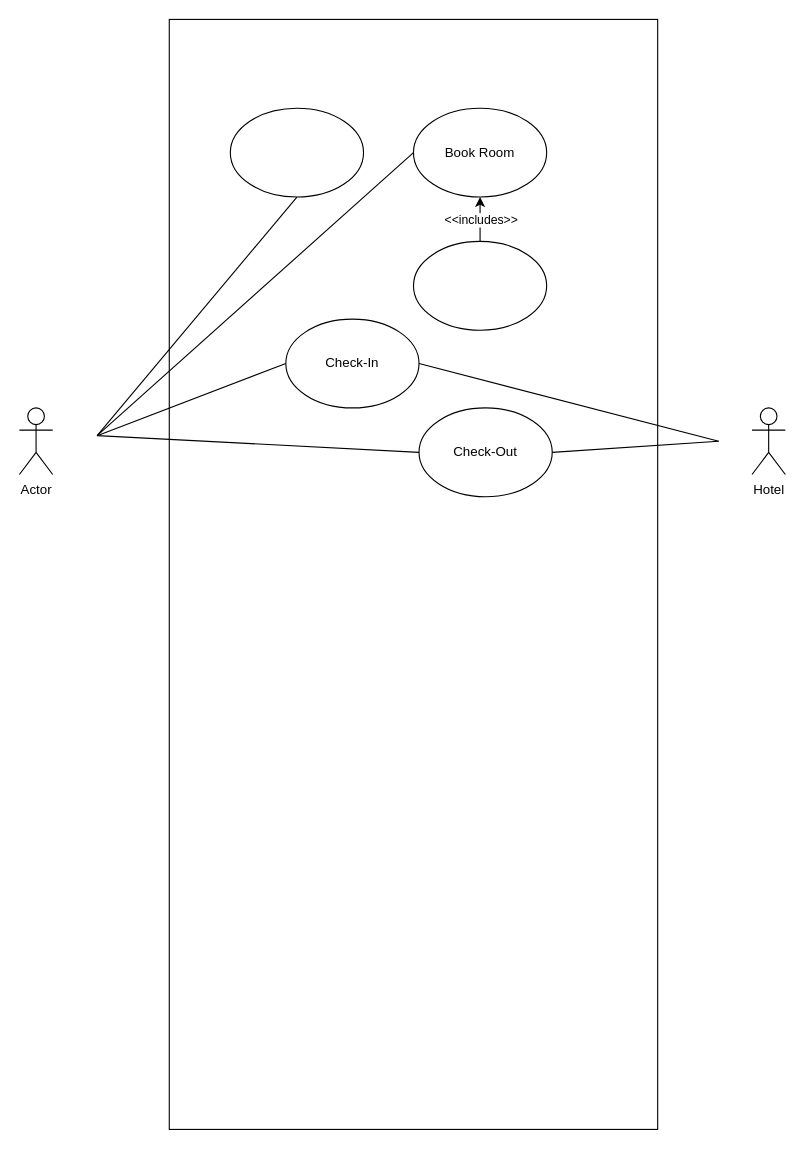
Some shapes in this 805 by 1149 pixel diagram are drawn without their labels. The centre of each missing label's shape, as x and y in pixels:
"Cancel Room/ Reservation" belongs at pixel 479 285.
"Search for Available Rooms" belongs at pixel 296 152.
